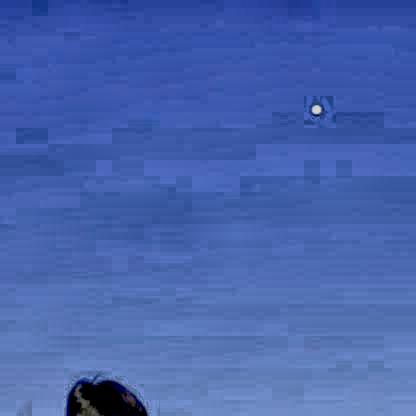golfball: (307, 100, 321, 114)
